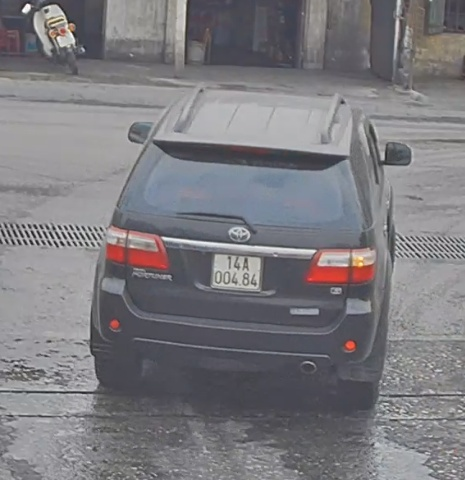vehicle plate: (211, 246, 265, 292)
